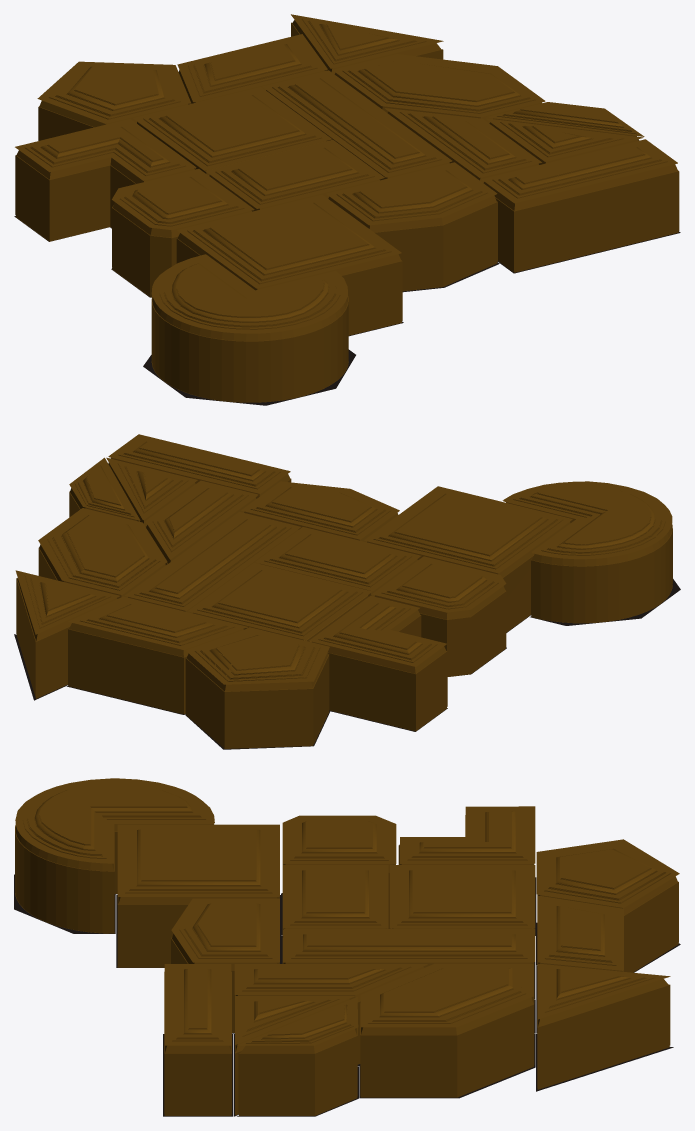
The model's file is level_v1.2.FBX.
The picture shows the model from 3 angles, top to bottom: view 1: azimuth 30°, elevation 25°; view 2: azimuth 150°, elevation 25°; view 3: azimuth 270°, elevation 25°; orthographic projection. The views are drawn at different scales.
Visible parts, largest first — view 1: ceiling, level, floor_2; view 2: ceiling, level; view 3: ceiling, level.
Boxes of the visible parts, x1,y1,x2,y2 form: ceiling: (15, 14, 677, 332); level: (15, 20, 679, 402); floor_2: (143, 349, 355, 405); ceiling: (15, 434, 672, 684); level: (16, 456, 672, 748); ceiling: (15, 778, 679, 1045); level: (15, 815, 678, 1115).
Bounding box in the file's own units: 1450 × 193 × 1526.
